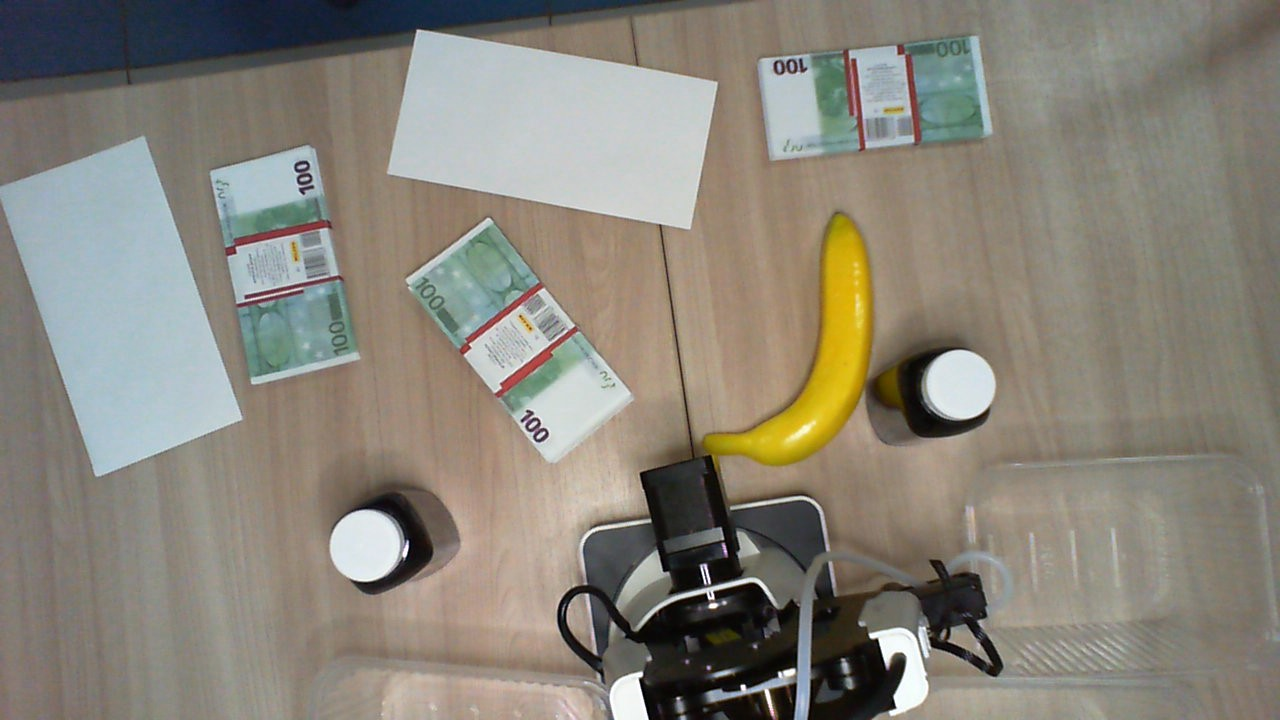banana: (705, 209, 877, 465)
bottle: (320, 491, 431, 596), (900, 338, 997, 439)
convert: (1, 133, 243, 476), (386, 27, 718, 230)
money: (403, 219, 633, 465), (208, 145, 358, 385), (753, 35, 993, 161)
